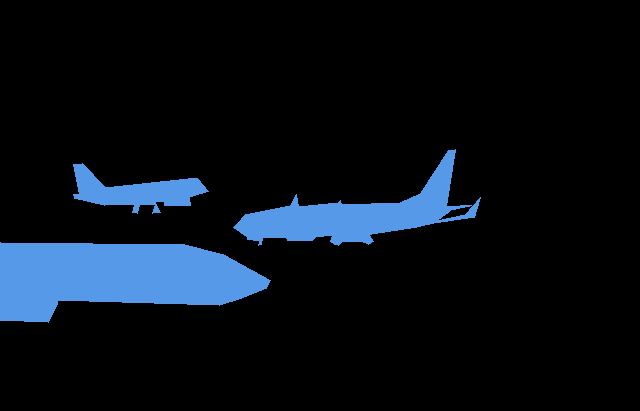Airplane: (233, 149, 480, 246), (0, 242, 270, 322), (73, 163, 209, 213)
